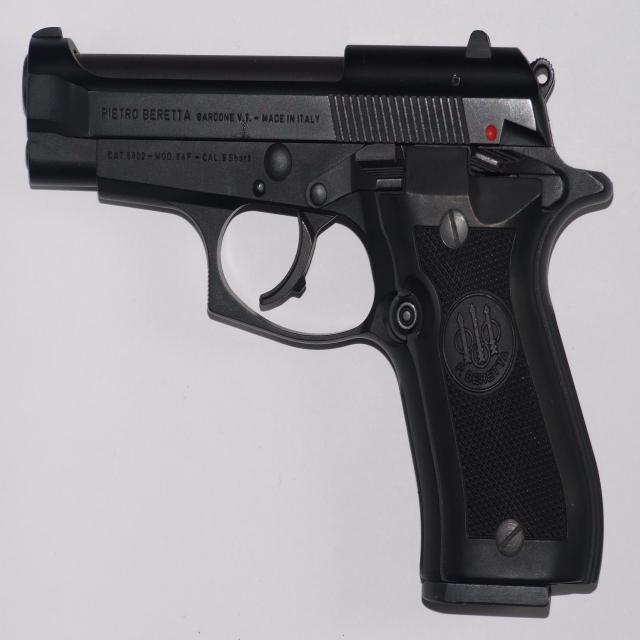pistol: (12, 18, 615, 634)
